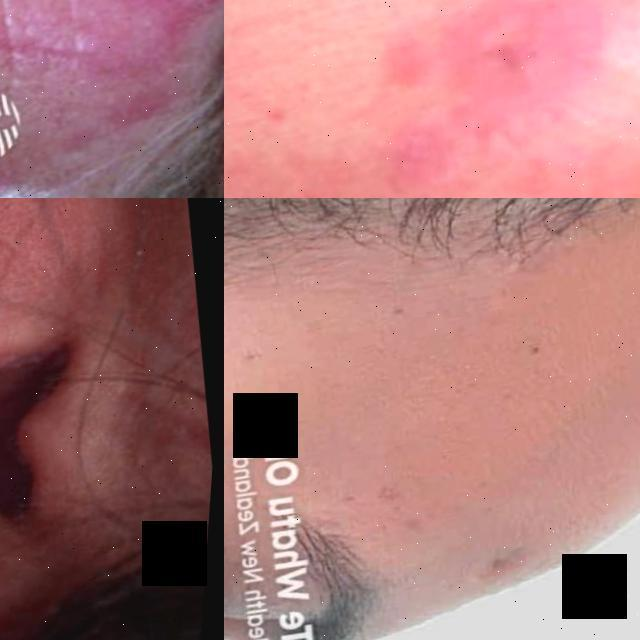lupus-detected: (308, 0, 640, 198), (0, 0, 224, 177)
